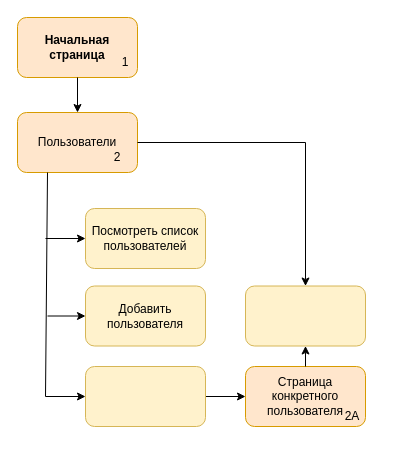
Some shapes in this 400 by 449 pixel diagram are drawn without their labels. The centre of each missing label's shape, as x and y in pixels:
Изменить роль пользователя: point (305, 315)
Перейти на страницу с данными конкретного пользователя: point (145, 396)
